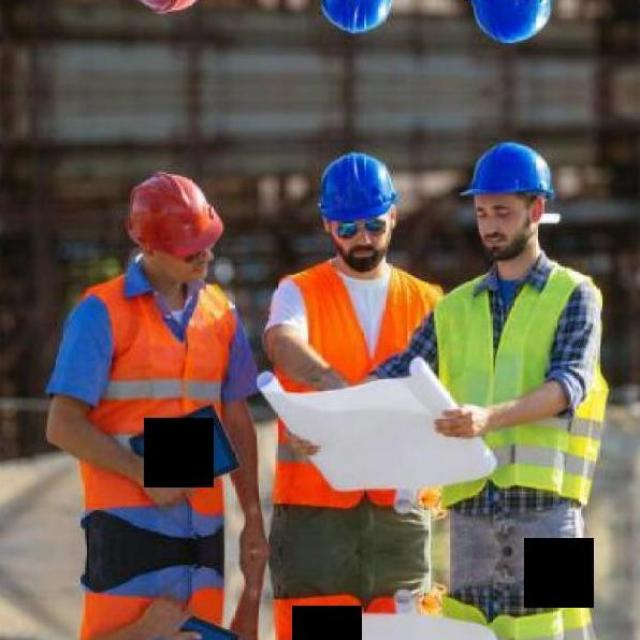blue helmet: (456, 141, 566, 221), (310, 153, 413, 236)
red helmet: (123, 171, 227, 260)
